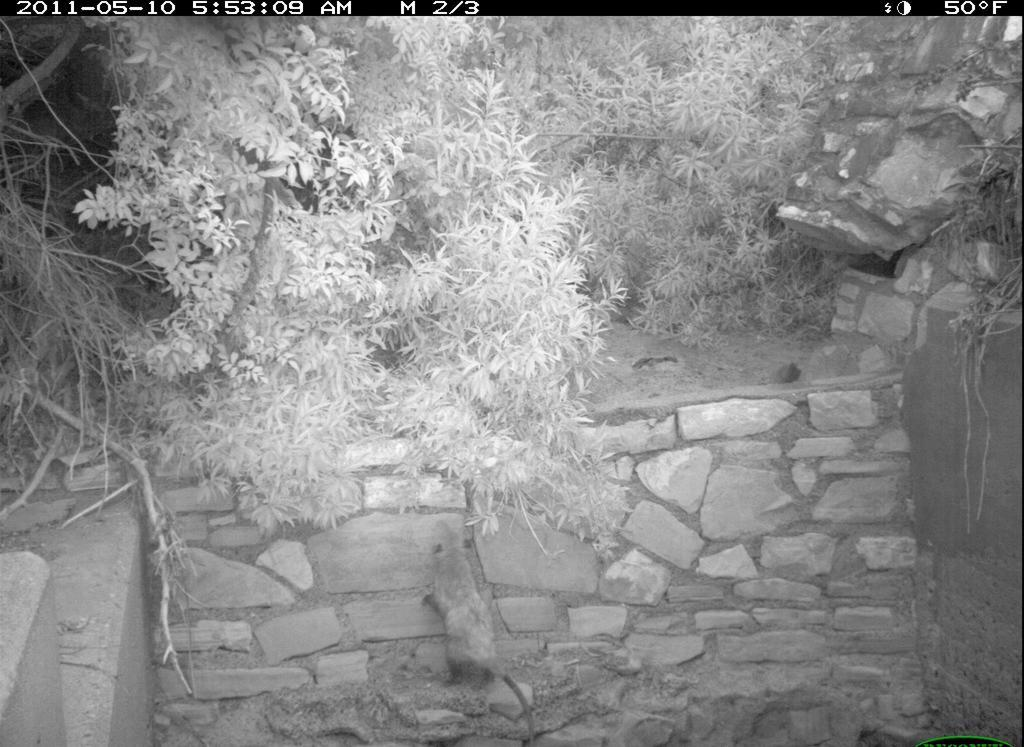opossum: (410, 506, 550, 747)
